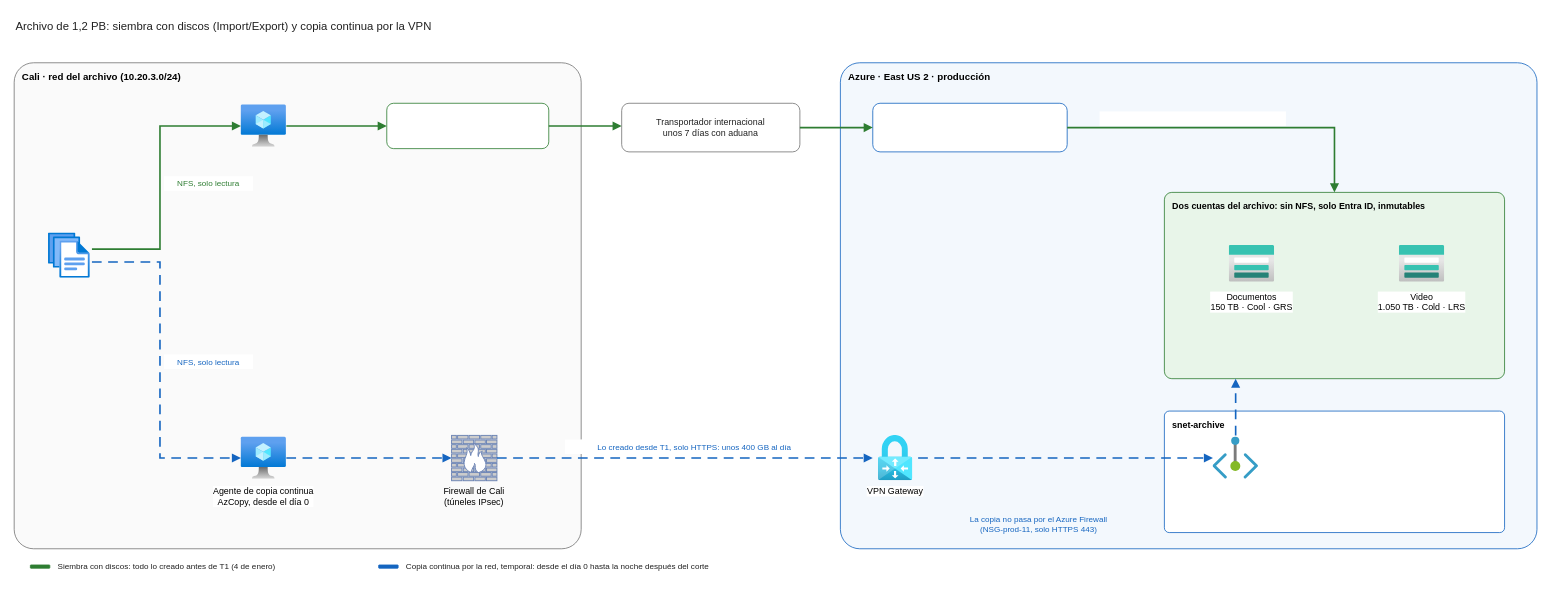
This 1551x590 diagram has some shape labels left out. Here are the shapes that lost their labels. From the top down, the centre of each, then its label:
At point 263,125: "2 estaciones de copia WAImportExport, BitLocker".
At point 467,125: "71 discos HDD de 20 TB 9 trabajos".
At point 969,127: "Datacenter de Microsoft Import/Export: carga en unos 10 días".
At point 1192,118: "D1, V1 a V6 y el diferencial".
At point 69,255: "Servidor de archivo FTP y NFS · 1,2 PB".
At point 1235,457: "Endpoints privados de Blob".
